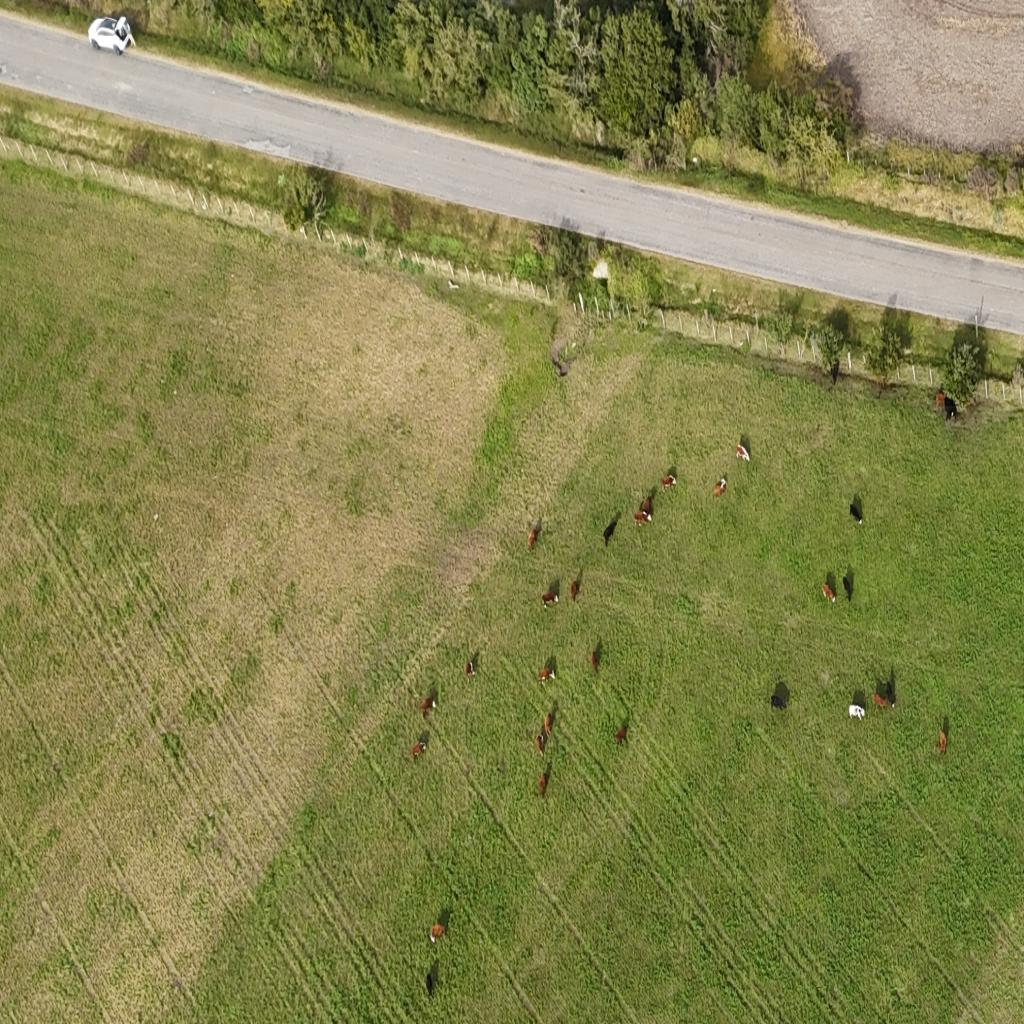cow: (602, 518, 616, 548), (943, 396, 959, 421), (850, 497, 863, 527), (541, 589, 559, 609), (538, 665, 556, 684), (420, 694, 436, 715), (873, 692, 890, 711), (713, 475, 727, 498), (822, 583, 836, 606), (411, 740, 427, 760), (736, 441, 750, 463), (634, 510, 651, 528), (430, 923, 446, 942), (849, 703, 865, 721), (543, 712, 553, 740), (771, 694, 788, 710), (615, 724, 627, 746), (527, 527, 538, 551), (535, 732, 545, 758), (538, 771, 548, 797), (662, 473, 676, 491), (426, 968, 434, 998), (570, 579, 580, 602), (844, 579, 852, 606), (938, 730, 947, 754), (465, 658, 475, 677), (935, 390, 945, 407), (591, 650, 598, 673)
